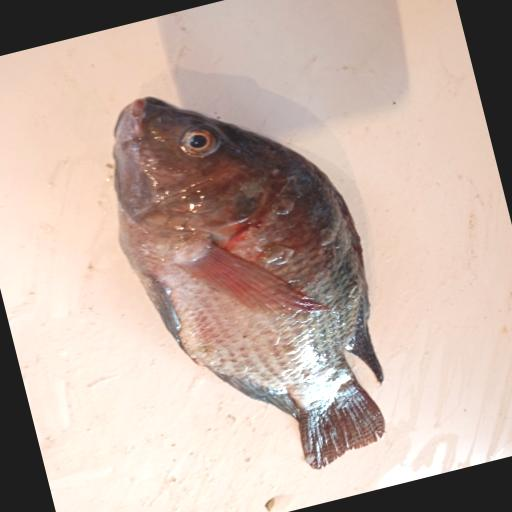Tilapia: (87, 55, 413, 503)
